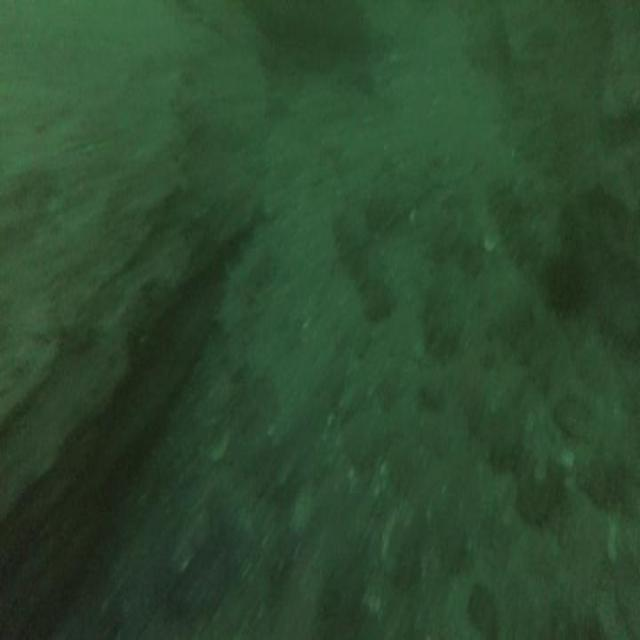echinus: (550, 240, 590, 326)
holothurian: (332, 204, 387, 329), (487, 166, 541, 280), (420, 276, 456, 361), (238, 237, 278, 308), (482, 418, 528, 470)
